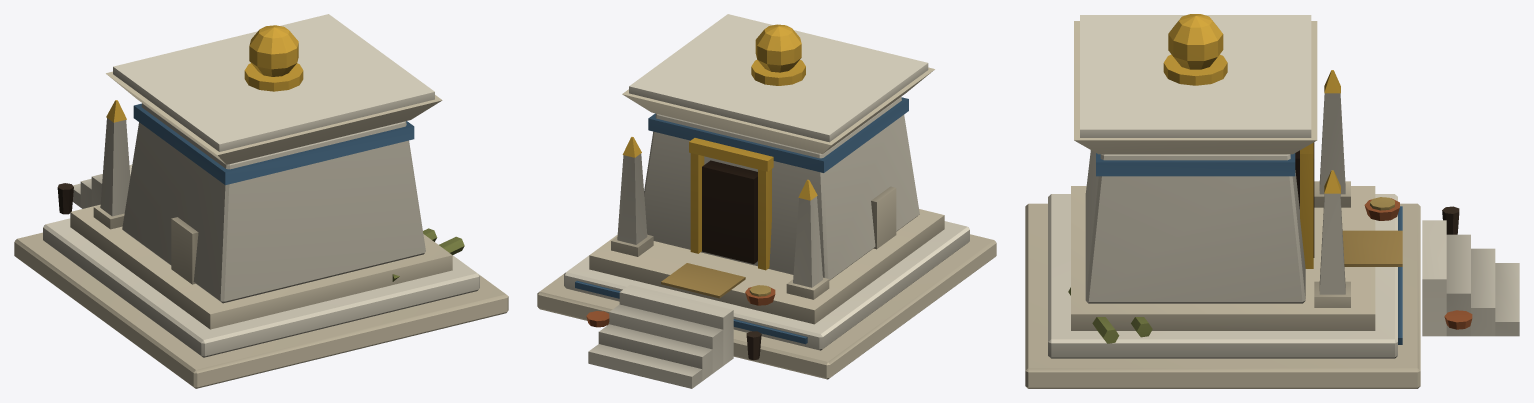
Rendered from shrine.glb.
3 renders of one model, left to right at view 1: azimuth 30°, elevation 25°; view 2: azimuth 150°, elevation 25°; view 3: azimuth 270°, elevation 25°, orthographic. The views are drawn at different scales.
Parts seen in each view (by area): view 1: shrine_stone_white, shrine_stone_pale, shrine_nile_blue, shrine_gold_leaf, shrine_crop_green, shrine_char_dark; view 2: shrine_stone_white, shrine_stone_pale, shrine_gold_leaf, shrine_door_dark, shrine_nile_blue, shrine_thatch_mat, shrine_pottery; view 3: shrine_stone_white, shrine_stone_pale, shrine_gold_leaf, shrine_nile_blue, shrine_thatch_mat, shrine_pottery, shrine_crop_green, shrine_door_dark.
Boxes of the visible parts, left/top/right/bottom form: shrine_stone_white: left=43, top=14, right=479, bottom=357; shrine_stone_pale: left=14, top=71, right=508, bottom=388; shrine_nile_blue: left=133, top=103, right=414, bottom=185; shrine_gold_leaf: left=106, top=25, right=303, bottom=122; shrine_crop_green: left=392, top=228, right=464, bottom=281; shrine_char_dark: left=57, top=183, right=73, bottom=214; shrine_stone_white: left=564, top=14, right=969, bottom=388; shrine_stone_pale: left=537, top=67, right=996, bottom=379; shrine_gold_leaf: left=622, top=24, right=817, bottom=270; shrine_door_dark: left=702, top=160, right=757, bottom=263; shrine_nile_blue: left=575, top=97, right=908, bottom=344; shrine_thatch_mat: left=661, top=263, right=745, bottom=298; shrine_pottery: left=586, top=286, right=775, bottom=327; shrine_stone_white: left=1048, top=15, right=1519, bottom=358; shrine_stone_pale: left=1025, top=21, right=1420, bottom=388; shrine_gold_leaf: left=1163, top=14, right=1340, bottom=268; shrine_nile_blue: left=1096, top=153, right=1402, bottom=344; shrine_thatch_mat: left=1342, top=230, right=1402, bottom=266; shrine_pottery: left=1364, top=198, right=1472, bottom=329; shrine_crop_green: left=1068, top=287, right=1152, bottom=343; shrine_door_dark: left=1295, top=142, right=1314, bottom=257.
Bounding box in the file's own units: 2.6 × 2.11 × 3.25.
